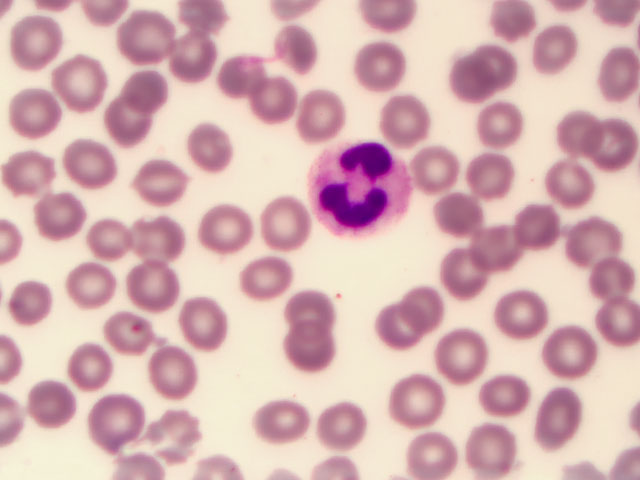RBC: (8, 11, 69, 74), (42, 48, 103, 111), (9, 81, 70, 144), (63, 137, 124, 200), (91, 94, 152, 157), (117, 59, 178, 122), (115, 3, 176, 66), (156, 26, 217, 89), (207, 44, 268, 107), (238, 63, 299, 126), (270, 18, 331, 81), (288, 81, 349, 144), (182, 111, 243, 174), (122, 154, 183, 217), (1, 139, 62, 202), (24, 179, 85, 242), (83, 210, 144, 273), (129, 206, 190, 269), (194, 202, 255, 265), (248, 191, 309, 254), (236, 243, 297, 306), (178, 288, 239, 351), (128, 252, 189, 315), (55, 254, 116, 317), (11, 272, 72, 335), (116, 296, 177, 359), (65, 328, 126, 391), (24, 377, 85, 440), (88, 384, 149, 447), (145, 400, 206, 463), (251, 391, 312, 454), (279, 328, 340, 391), (279, 277, 340, 340), (355, 305, 416, 368), (397, 282, 458, 345), (438, 243, 499, 306), (470, 214, 531, 277), (421, 186, 482, 249), (405, 139, 466, 202), (382, 86, 443, 149), (357, 39, 418, 102), (430, 54, 491, 117), (462, 35, 523, 98), (528, 23, 589, 86), (579, 39, 640, 102), (550, 102, 611, 165), (577, 114, 638, 177), (545, 150, 606, 213), (517, 195, 578, 258), (466, 154, 527, 217), (475, 98, 536, 161), (560, 206, 621, 269), (576, 245, 637, 308), (579, 285, 640, 348), (547, 317, 608, 380), (484, 285, 545, 348), (428, 324, 489, 387), (385, 365, 446, 428), (471, 361, 532, 424), (531, 382, 592, 445), (468, 417, 529, 480), (406, 417, 467, 480), (312, 395, 373, 458)
WBC: (307, 141, 414, 244)
